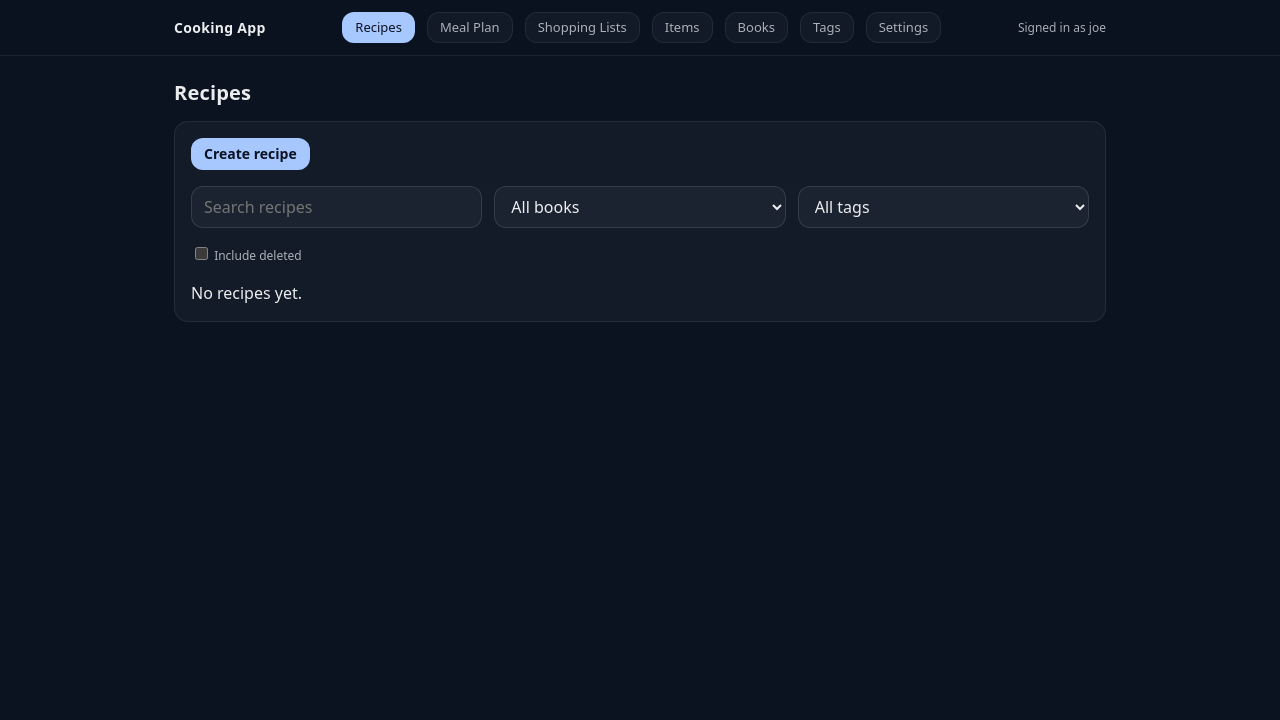
Test: routes › navigates via TopNav
The image size is (1280, 720).
Check: the heading "Recipes" is shown, box [174,80,251,105]
Step 1. Click the link "Tags" → (827, 28), box [800,12,854,43]
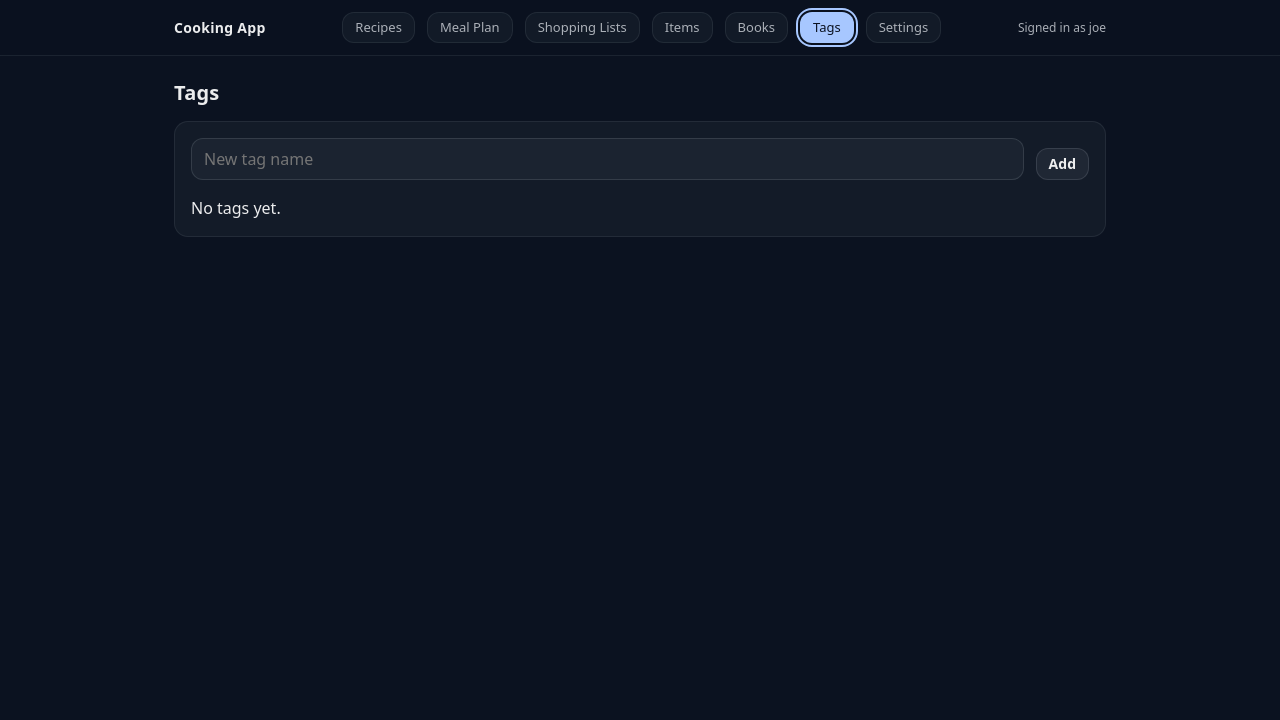
Check: the heading "Tags" is shown, box [174,80,220,105]
Step 2. Click the link "Meal Plan" → (470, 28), box [427,12,513,43]
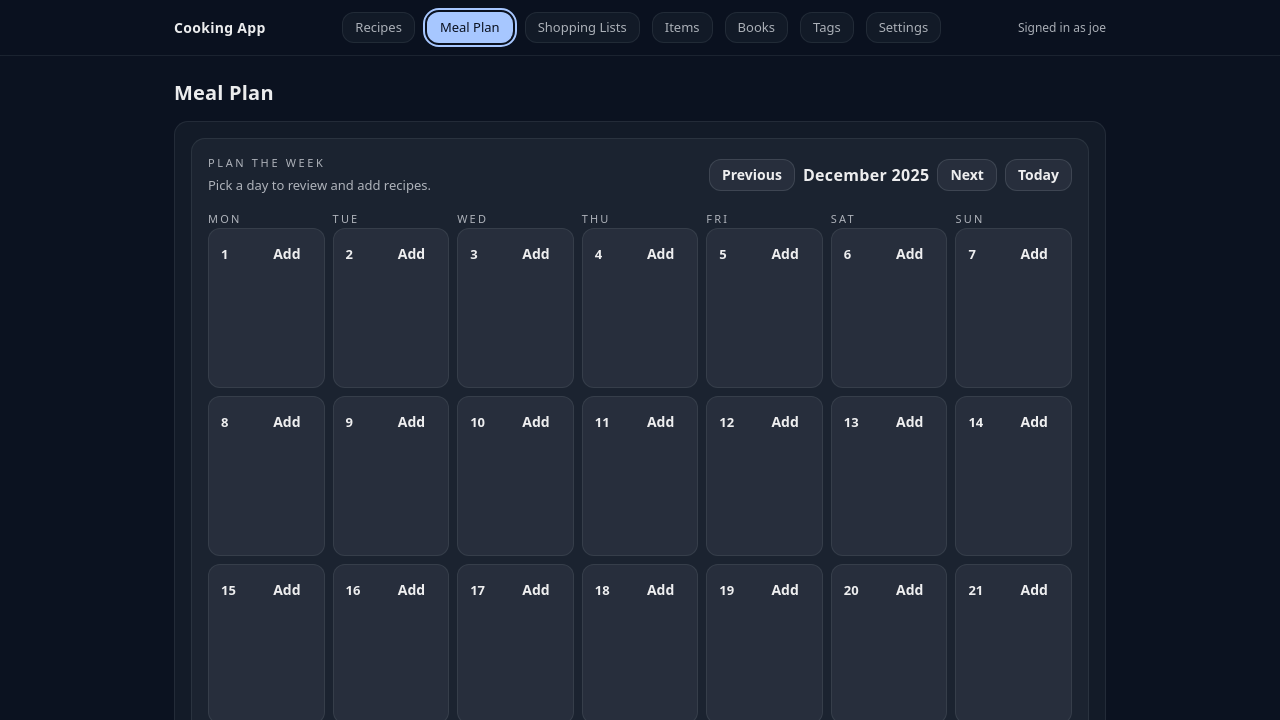
Check: the heading "Meal Plan" is shown, box [174,80,274,105]
Step 3. Click the link "Shopping Lists" → (582, 28), box [525,12,640,43]
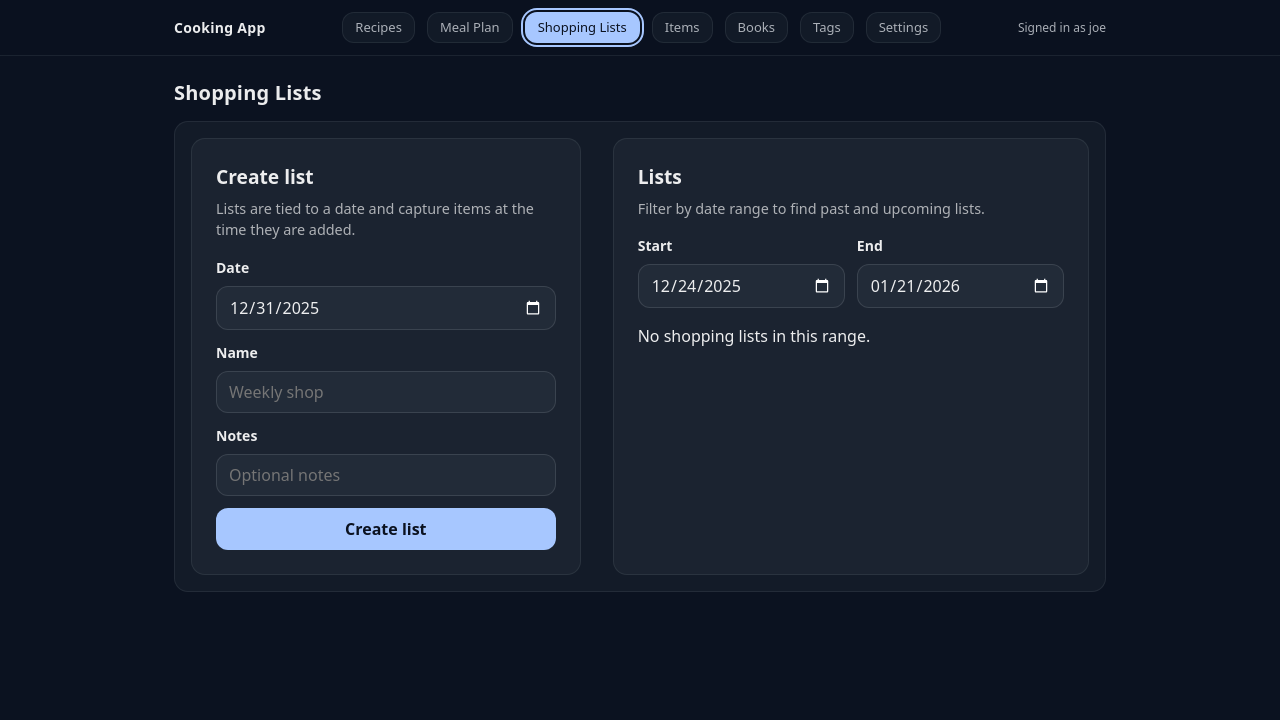
Check: the heading "Shopping Lists" is shown, box [174,80,322,105]
Step 4. Click the link "Items" → (682, 28), box [652,12,713,43]
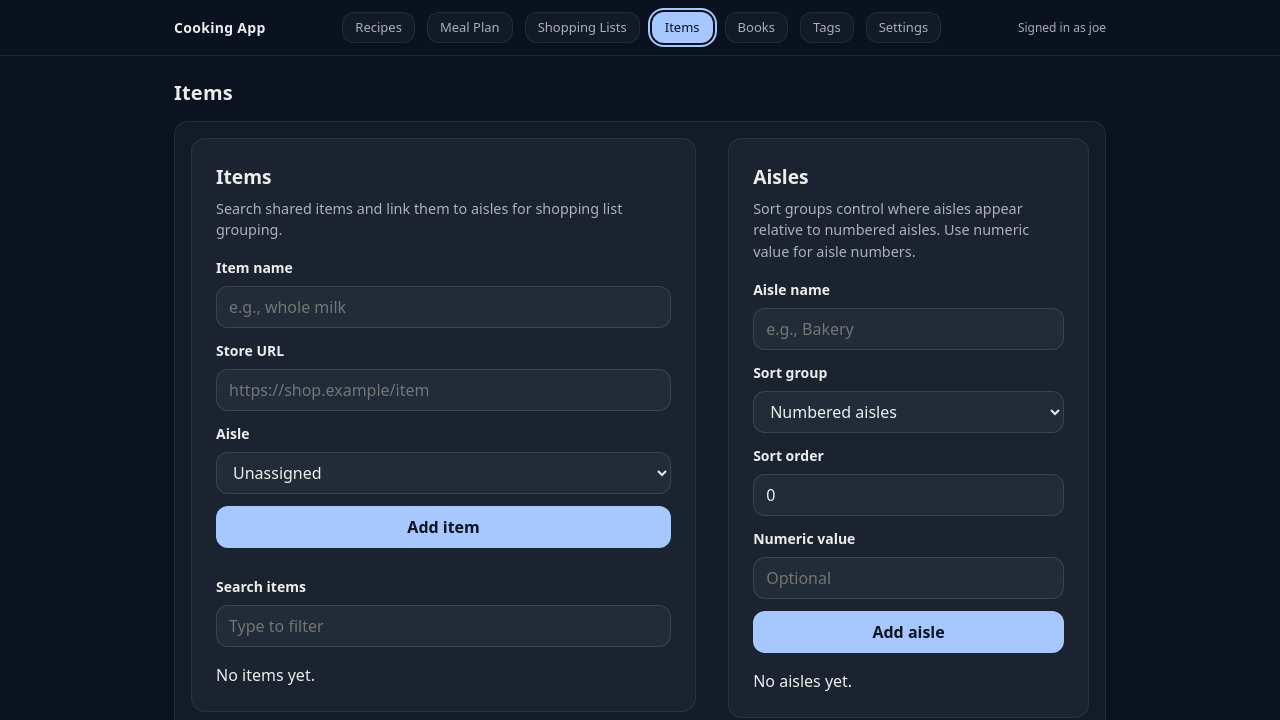
Check: the 1st heading "Items" is shown, box [174,80,233,105]
Step 5. Click the link "Settings" → (903, 28), box [866,12,941,43]
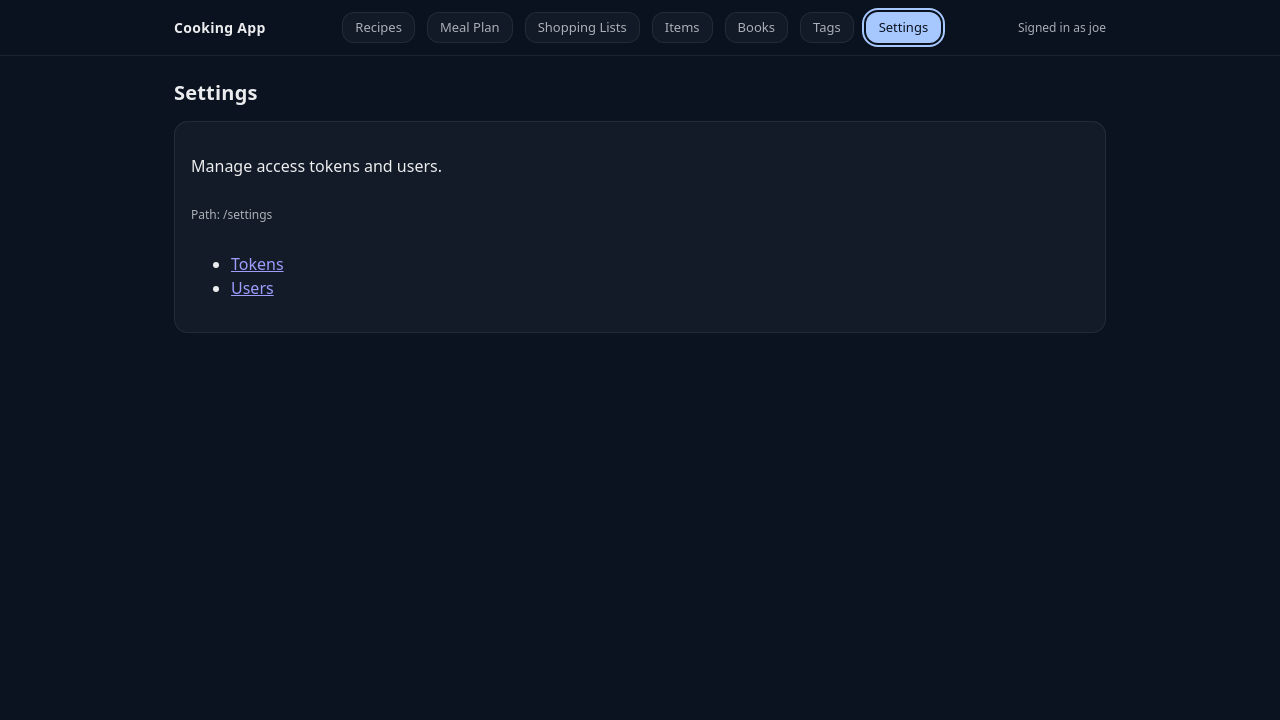
Check: the heading "Settings" is shown, box [174,80,258,105]
